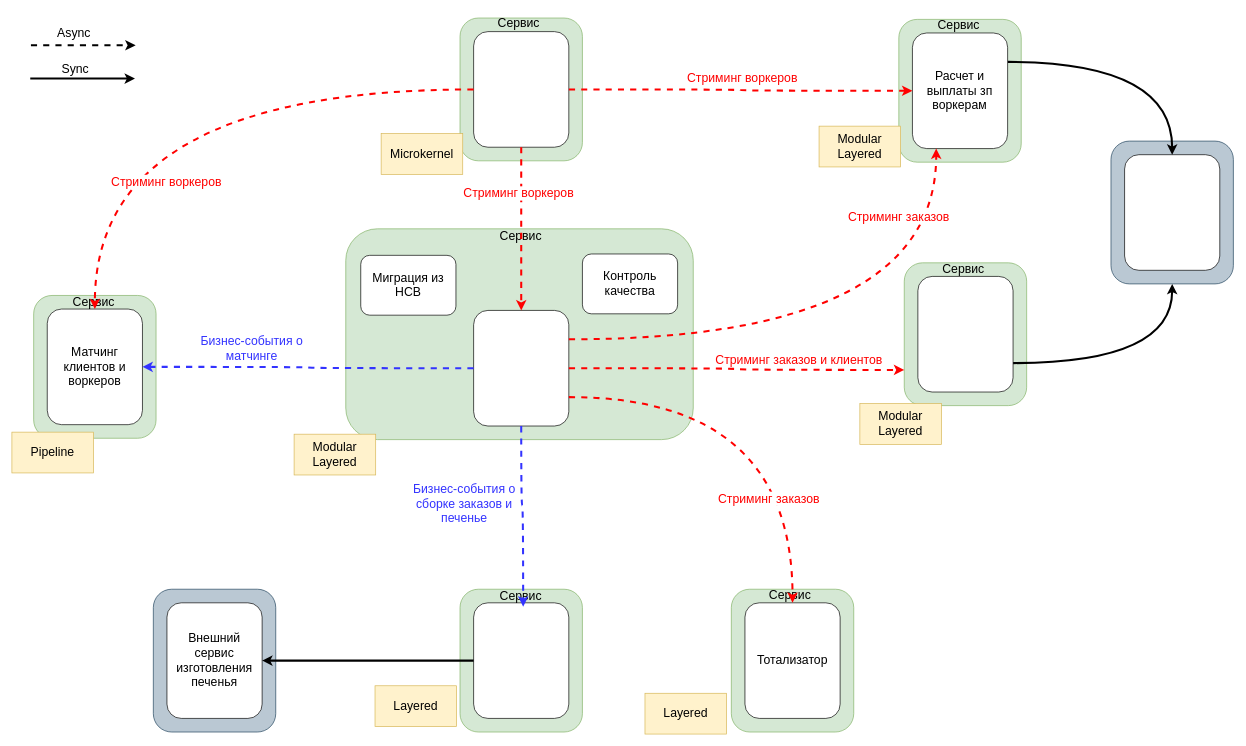
Image size: 1246x746. Some labels were removed from this diagram. Here are the shapes that lost their labels. From the top down, the centre of each, then its label:
At point 521,89: "Скоринг потенциальных работников".
At point 1172,212: "Внешний сервис перевода денег".
At point 965,334: "Расчет и списание средств у клиентов".
At point 521,368: "Заказы".
At point 521,660: "Сборка расходников и заказ печенья".
